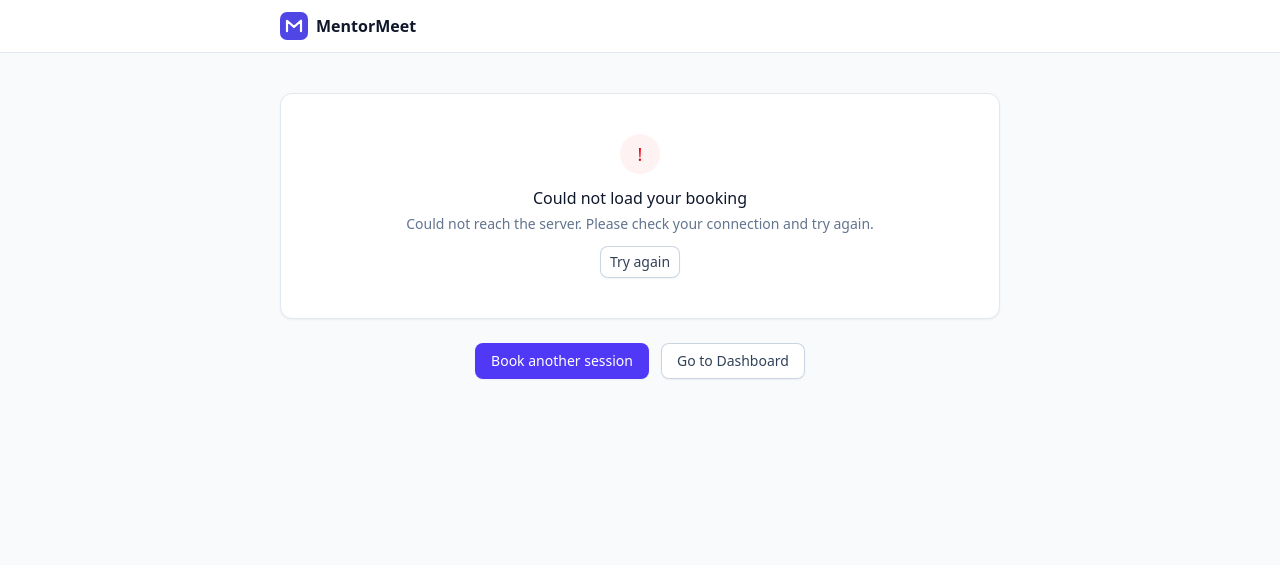
Test: ConfirmationPage › shows a network error with a working retry
Check: the text "Could not load your booking" is shown, box [533,187,747,209]
Click the button "Try again" at (640,262), box [600,246,680,278]
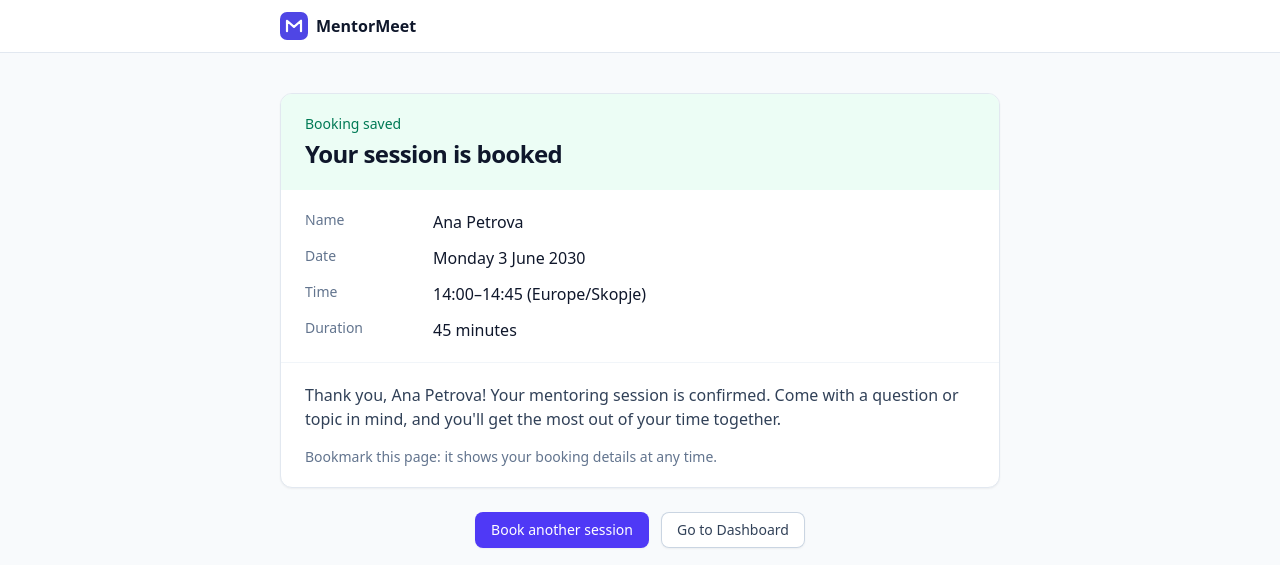
Check: the text "Ana Petrova" is shown, box [433,210,524,234]
